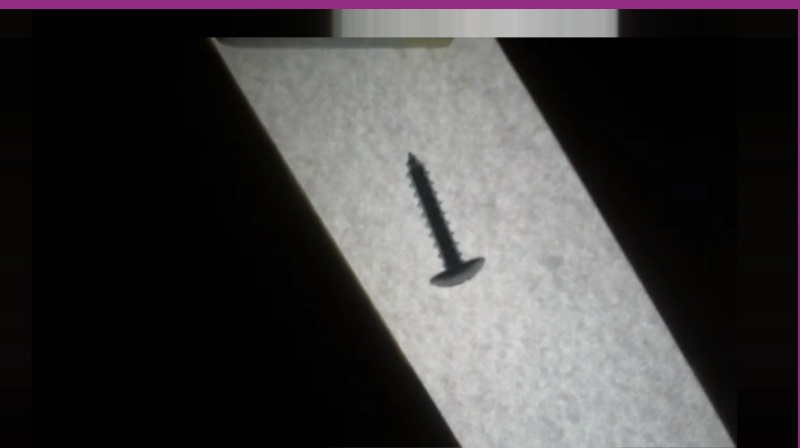S003: (403, 151, 486, 288)
